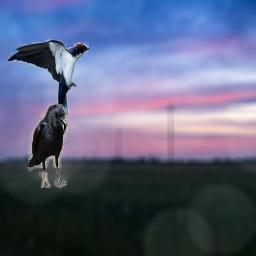Crow: (28, 104, 68, 188)
Swallow: (8, 39, 89, 115)
